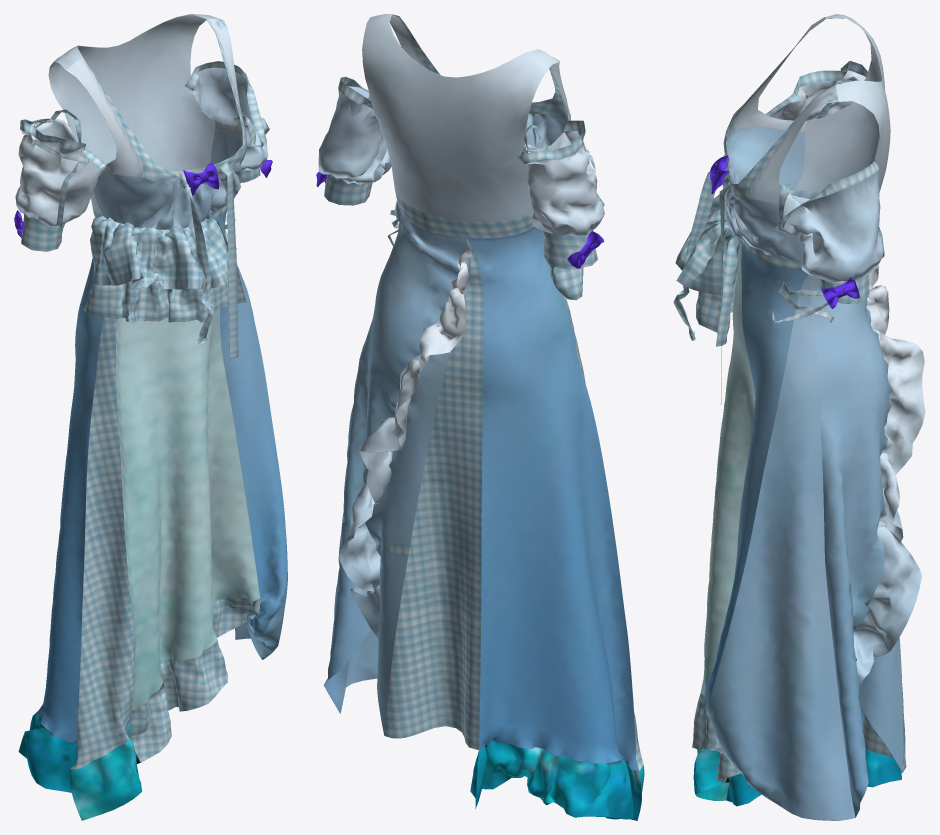
File: asset02.glb
3 views of the same model, side by side, from view 1: azimuth 30°, elevation 25°; view 2: azimuth 150°, elevation 25°; view 3: azimuth 270°, elevation 25° (orthographic). The views are drawn at different scales.
Parts seen in each view (by area): view 1: Dirndl2; view 2: Dirndl2; view 3: Dirndl2.
Part boxes in pixels (x1=…): Dirndl2: x1=14, y1=14, x2=287, y2=820; Dirndl2: x1=316, y1=14, x2=644, y2=820; Dirndl2: x1=673, y1=14, x2=925, y2=820.
Bounding box in the file's own units: 5.12 × 13.71 × 3.86.
5 materials, 5 textured.
